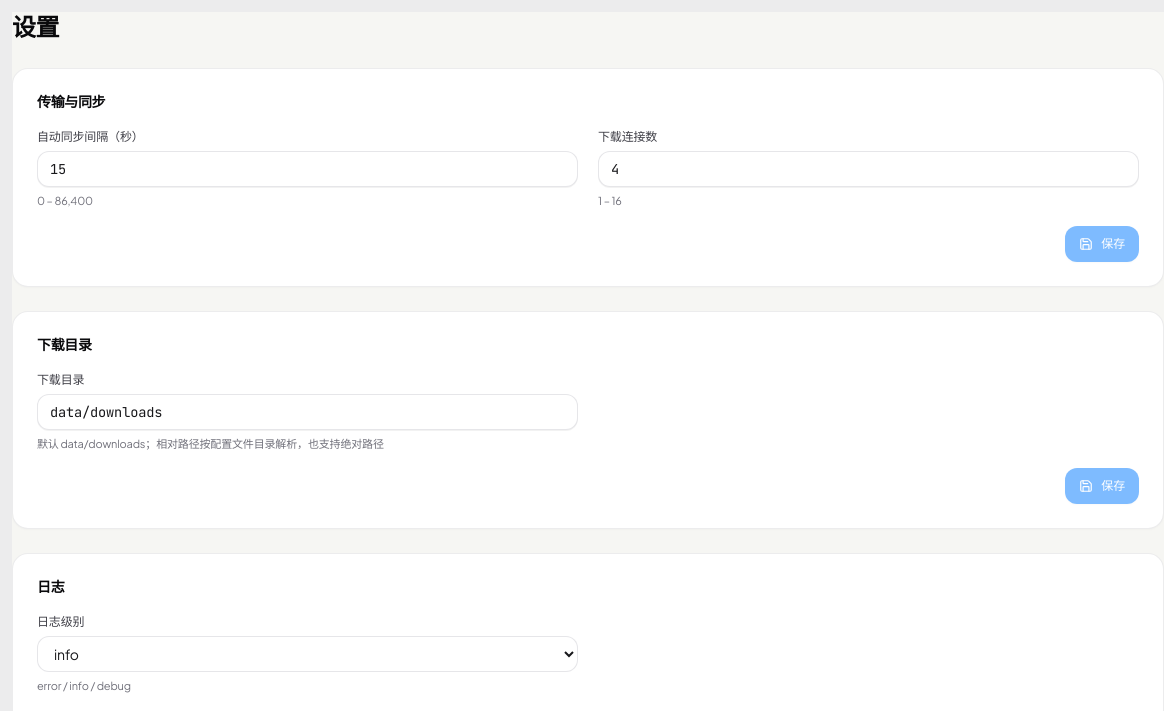
Test: SettingsView › 改动只提交所在卡片的那一张，提交成功后重新禁用
The image size is (1164, 711).
Step 1. Replace the text in the number field with id "setting-mount" with "17" → (308, 169), box [37, 151, 578, 187]
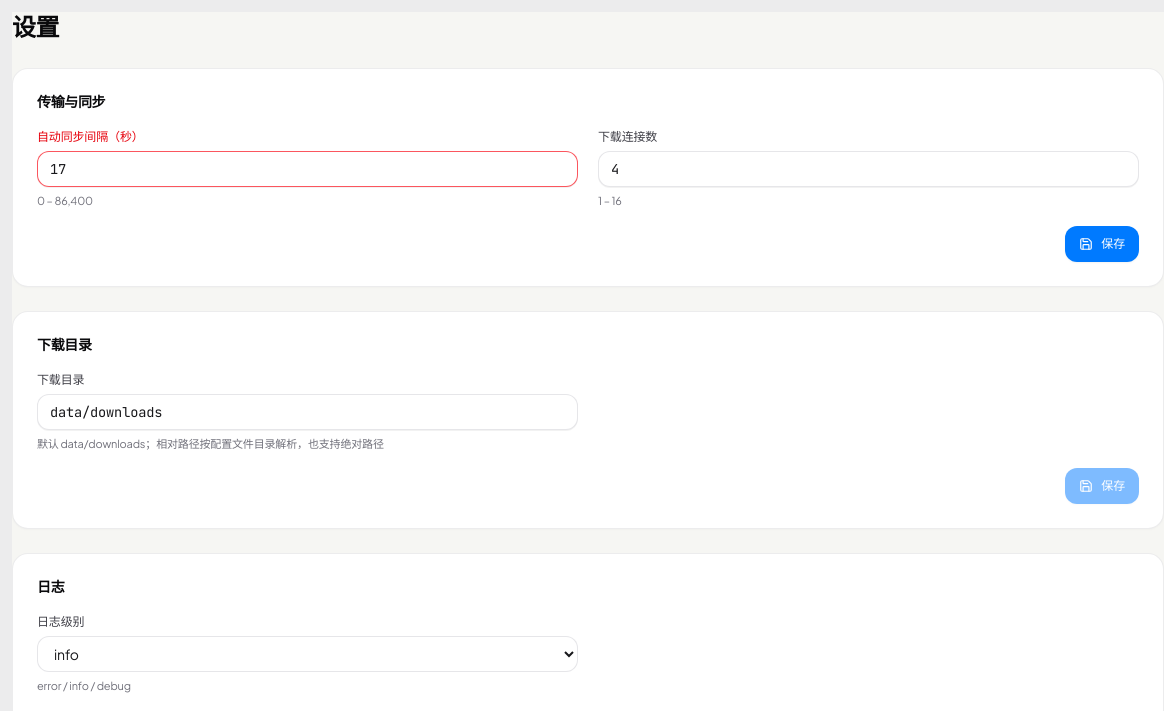
Check: the 2nd button "保存" is disabled, box [1065, 468, 1139, 504]
Check: the 1st button "保存" is enabled
Step 2. Click the 1st button "保存" → (1102, 244), box [1065, 226, 1139, 262]
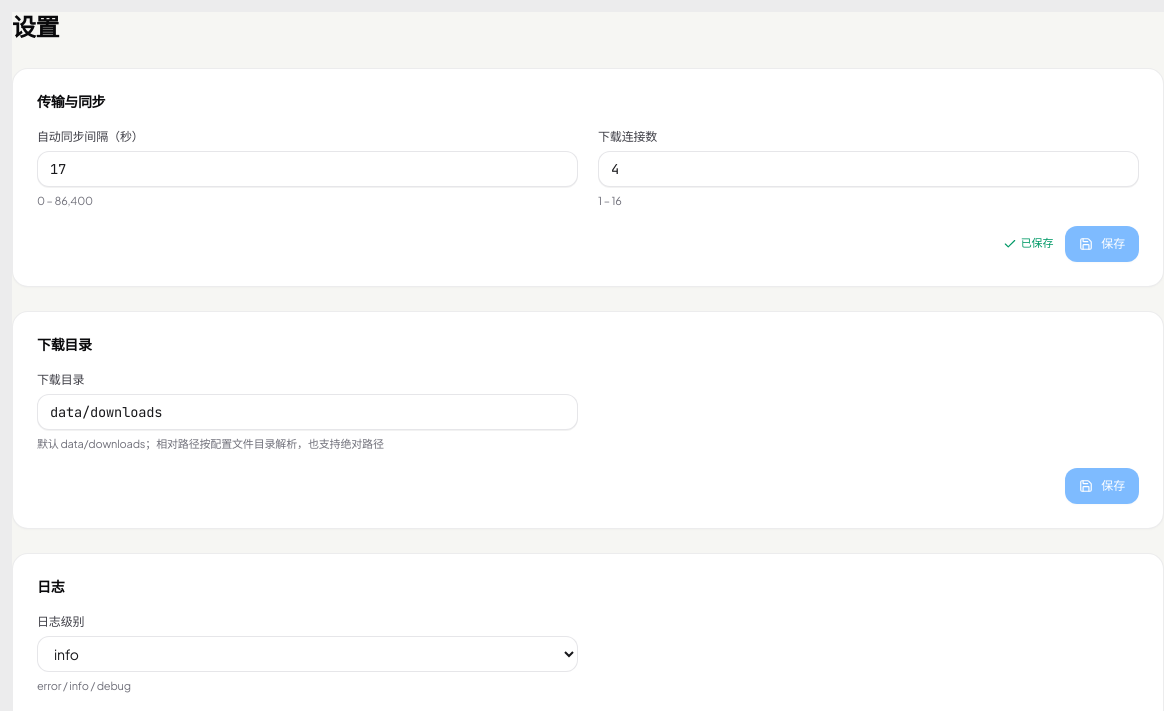
Check: the button "保存" next to "已保存" is disabled, box [1065, 226, 1139, 262]
